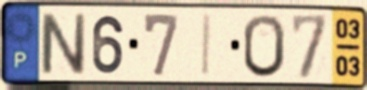6: (90, 12, 126, 77)
7: (289, 11, 329, 81), (141, 11, 180, 79)
I: (199, 12, 214, 79)
N: (38, 10, 88, 77)
O: (241, 12, 287, 80)
